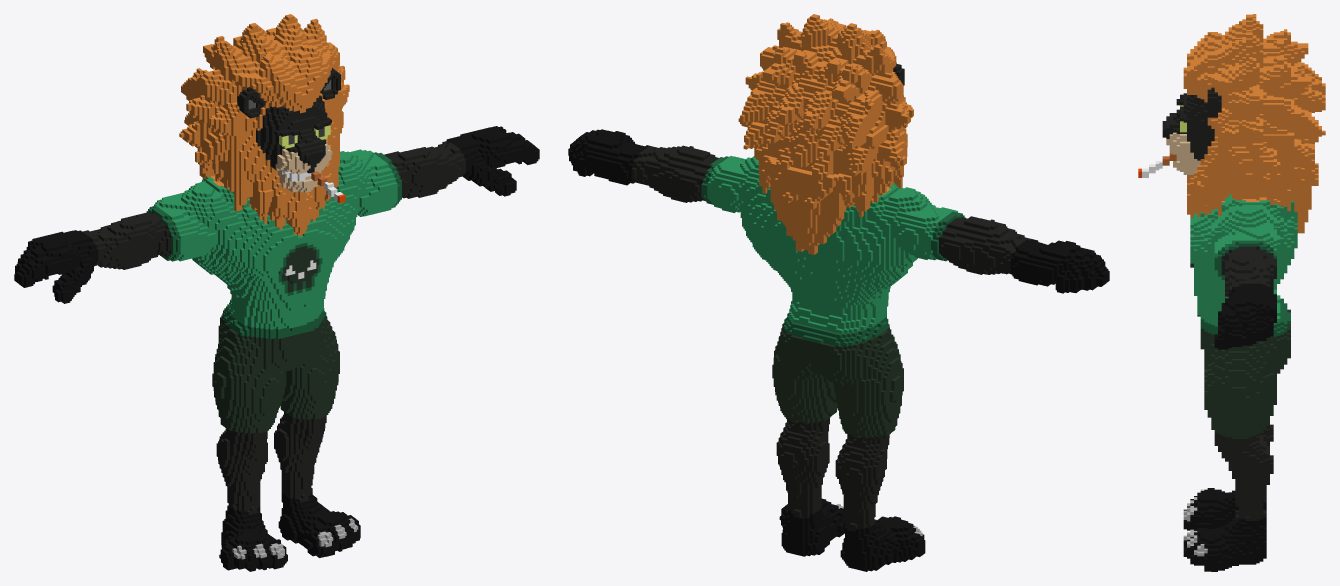
File: 762-BJAQVJh9.glb
The picture shows the model from 3 angles, left to right: view 1: azimuth 30°, elevation 25°; view 2: azimuth 150°, elevation 25°; view 3: azimuth 270°, elevation 25°; orthographic projection. The views are drawn at different scales.
Visible parts, largest first — view 1: cigarette; view 2: cigarette; view 3: cigarette.
Boxes of the visible parts, x1,y1,x2,y2 form: cigarette: [14, 14, 539, 571]; cigarette: [568, 14, 1109, 571]; cigarette: [1138, 14, 1325, 571].
Size of the model in its own units: 17.2 by 16.5 by 5.4.
5 materials, 5 textured.
